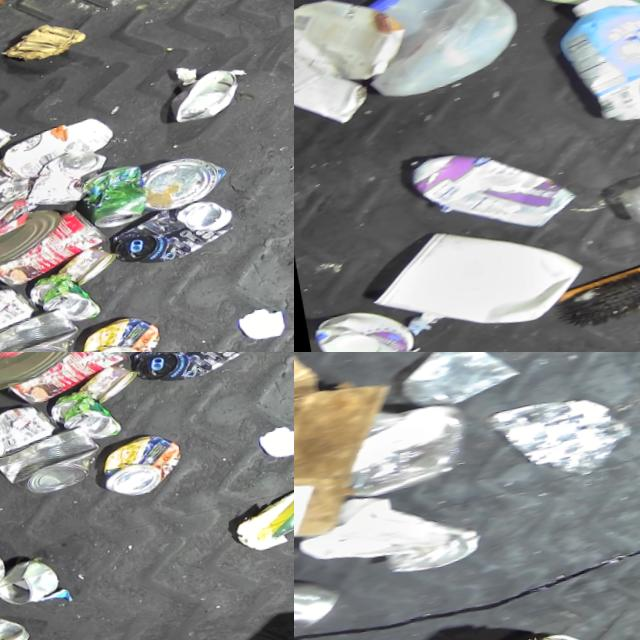can: (399, 129, 579, 257), (104, 200, 235, 278), (0, 206, 106, 294), (0, 425, 99, 506), (0, 352, 127, 412), (92, 434, 181, 506), (16, 150, 110, 217), (136, 155, 227, 220), (124, 352, 255, 395), (76, 169, 147, 238), (22, 270, 97, 334), (43, 388, 118, 452), (165, 72, 244, 132), (0, 209, 62, 280), (0, 352, 83, 398), (0, 402, 53, 471), (0, 307, 78, 352), (294, 565, 338, 640), (71, 316, 160, 352), (49, 247, 115, 295), (70, 365, 136, 413), (0, 557, 52, 613), (0, 284, 32, 352)
milk_jug: (353, 0, 524, 107)
non_white_jug: (546, 0, 640, 140)
